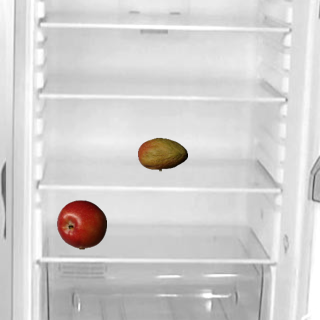Apple Braeburn: (56, 199, 106, 249)
Papaya: (137, 129, 187, 179)
